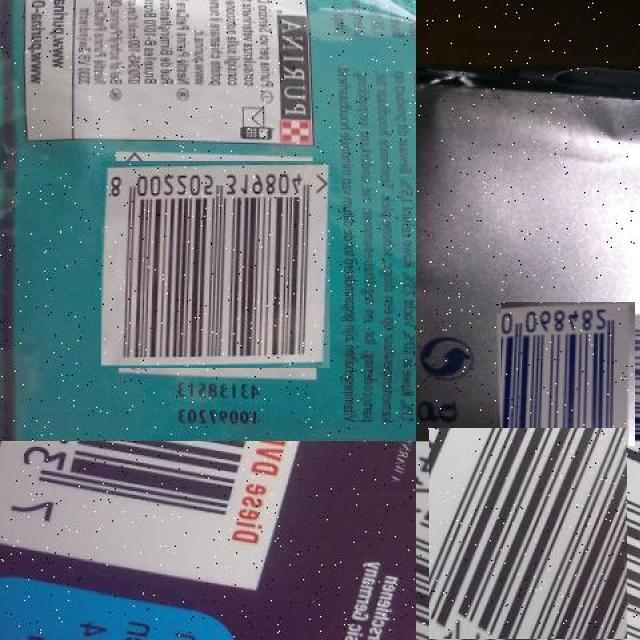Barcode: (0, 442, 379, 594), (106, 155, 325, 374), (423, 434, 634, 640), (498, 304, 637, 444)
